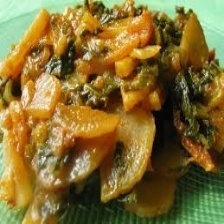sabzi: (3, 4, 224, 224)
